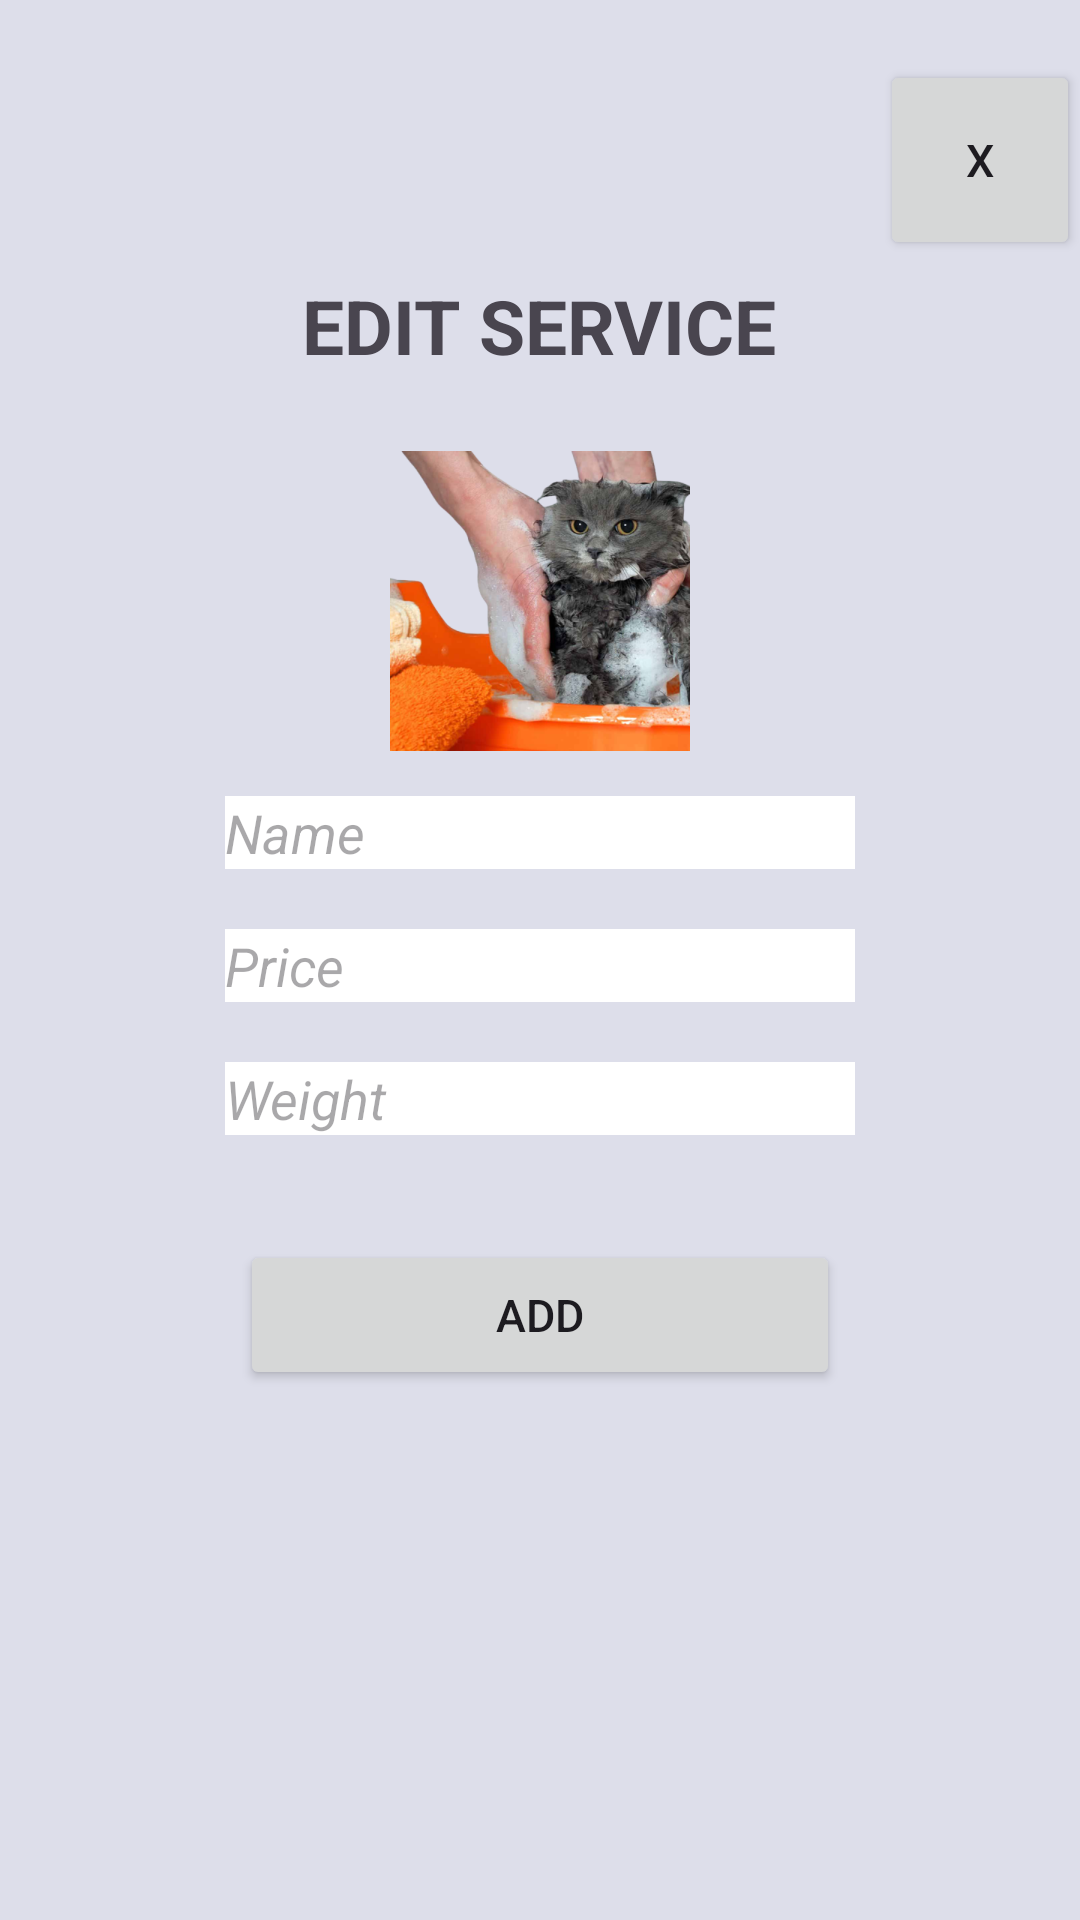

Point at icon controls on the screen. Image size 1080 × 1920, points as (x,y).
imgcat: (540,601)
